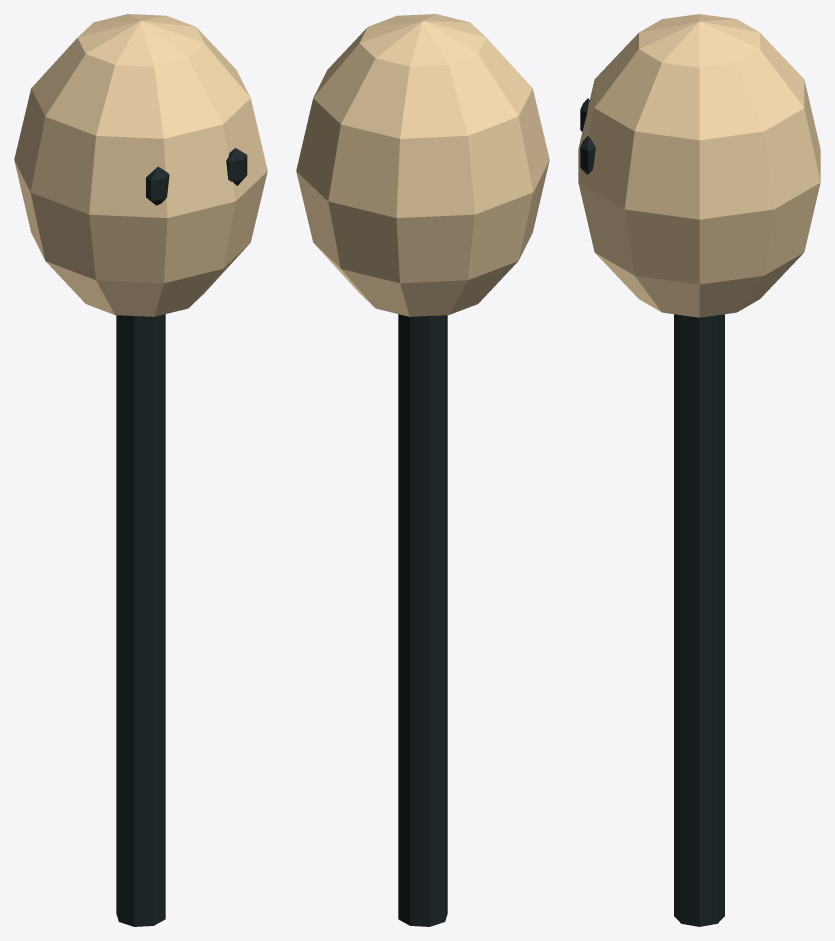
The model's file is ParkParkDecorSpookyLamp.obj.
3 views of the same model, side by side, from view 1: azimuth 30°, elevation 25°; view 2: azimuth 150°, elevation 25°; view 3: azimuth 270°, elevation 25° (orthographic).
Visible parts, largest first — view 1: ParkParkDecorSpookyLamp; view 2: ParkParkDecorSpookyLamp; view 3: ParkParkDecorSpookyLamp.
Part boxes in pixels (left/top/right/bottom): ParkParkDecorSpookyLamp: left=14, top=14, right=267, bottom=926; ParkParkDecorSpookyLamp: left=296, top=14, right=549, bottom=926; ParkParkDecorSpookyLamp: left=578, top=14, right=820, bottom=926.
Size of the model in its own units: 1.6 by 6.2 by 1.52.
